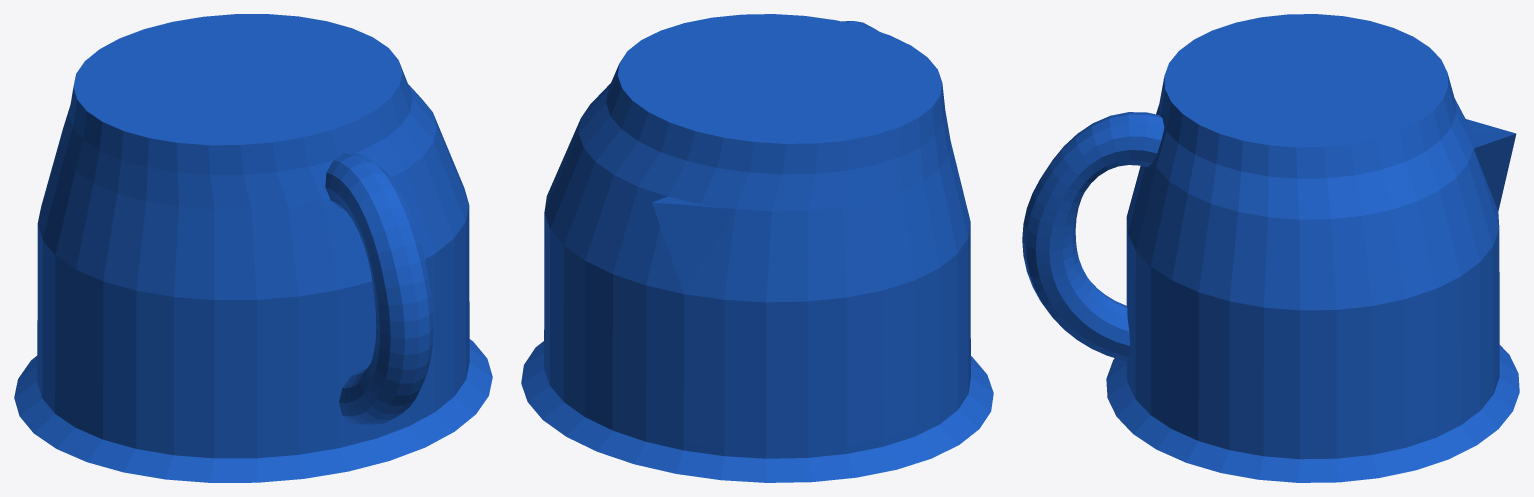
Rendered from coffeepot.obj.
3 renders of one model, left to right at view 1: azimuth 30°, elevation 25°; view 2: azimuth 150°, elevation 25°; view 3: azimuth 270°, elevation 25°, orthographic. The views are drawn at different scales.
Parts seen in each view (by area): view 1: Torus; view 2: Torus; view 3: Torus.
Boxes of the visible parts, box(x1,y1,x2,y2) form: Torus: box(14, 14, 492, 482); Torus: box(521, 14, 993, 482); Torus: box(1022, 14, 1519, 482).
Bounding box in the file's own units: 1.71 × 1.21 × 1.85.
